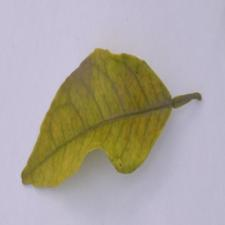Greening: (14, 46, 180, 188)
